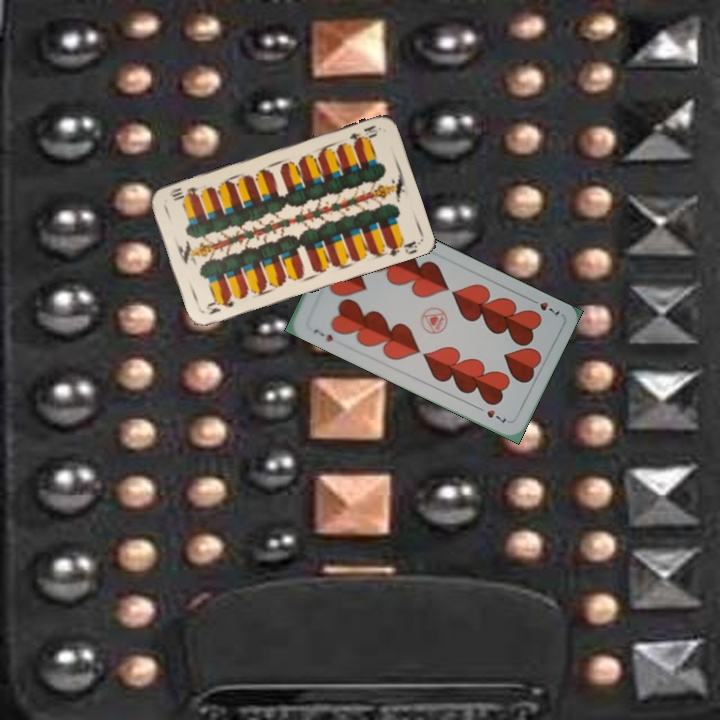E10: (345, 121, 381, 146), (202, 294, 237, 317)
H7: (525, 294, 562, 318), (309, 325, 335, 344)
